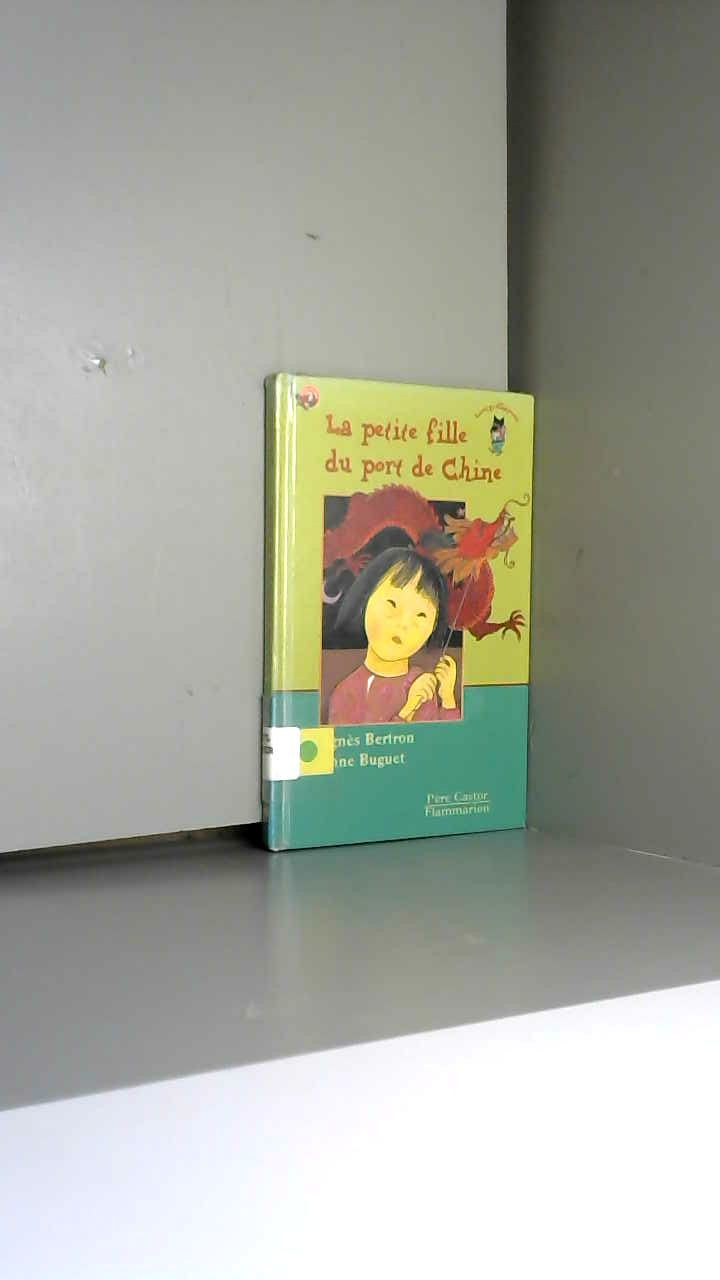book: (222, 339, 568, 895)
